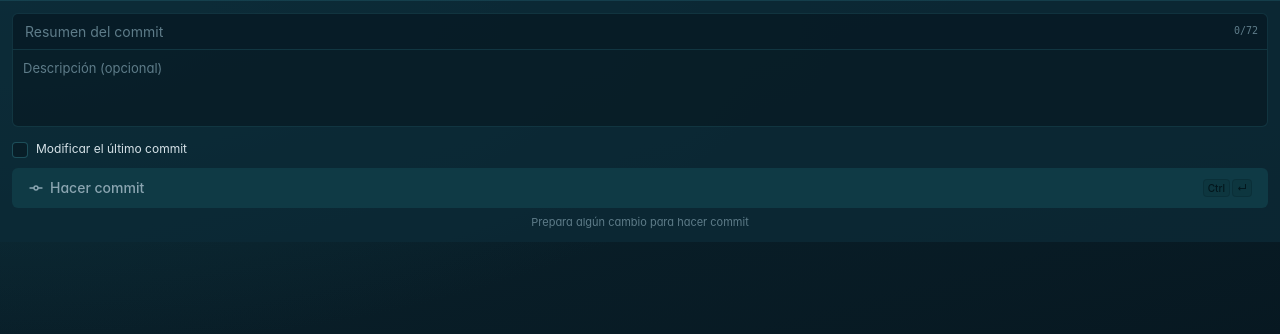
CommitEditor › prefills the last message when amending
Click the checkbox named "modificar el último commit".
click(20, 150)  # box [12,142,28,158]
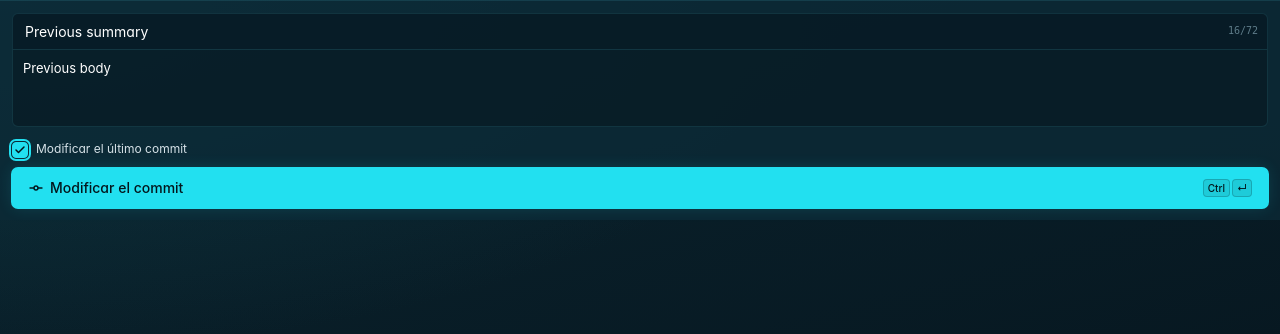
Now the field named "Resumen del commit" holds "Previous summary", box [12,13,1268,49]
Now the text box named "Descripción del commit" holds "Previous body", box [12,49,1268,127]
Now the button "Modificar el commit Ctrl ↵" is enabled, box [12,168,1268,208]
